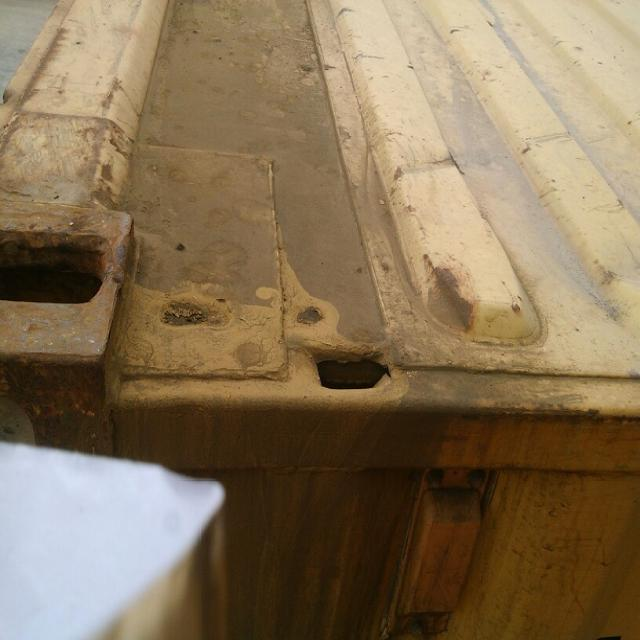hole: (305, 337, 402, 396), (157, 288, 231, 338)
